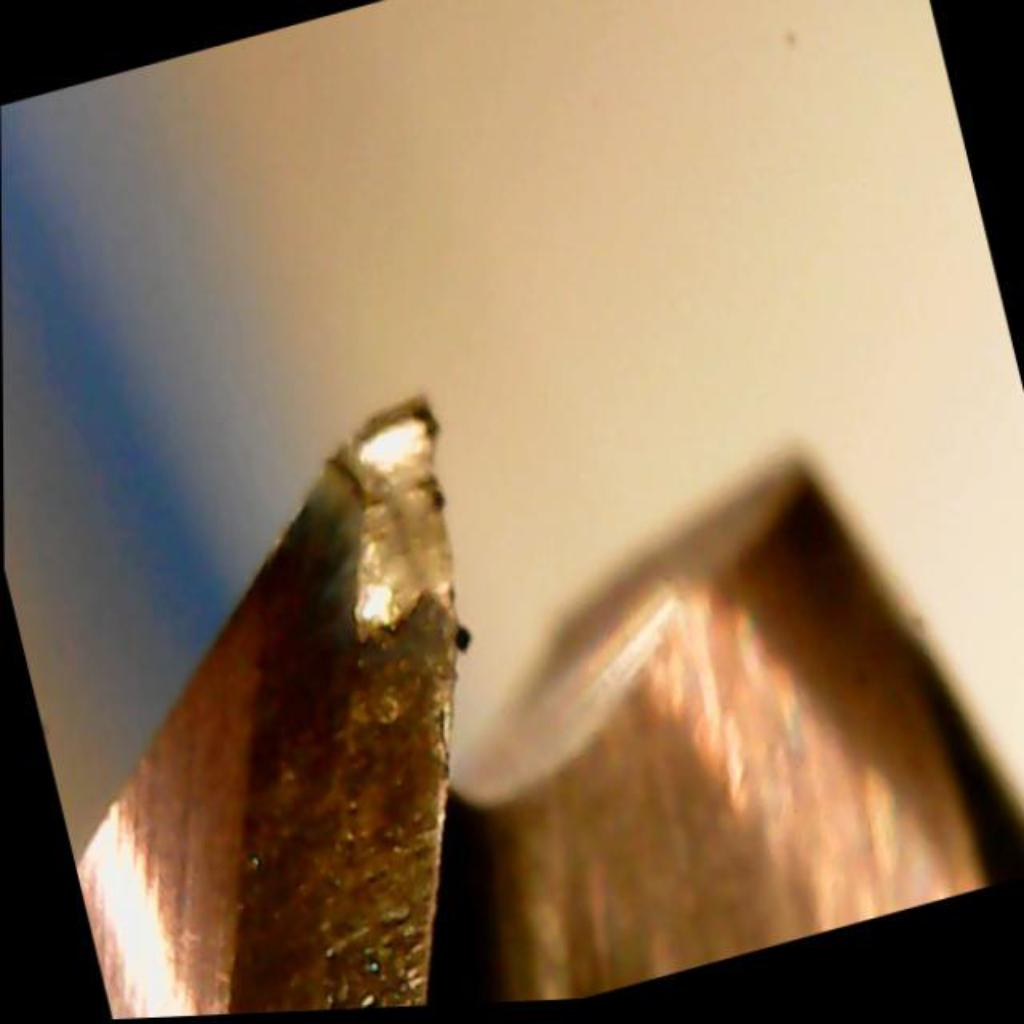Tool-wear-class-2: (179, 365, 595, 997)
